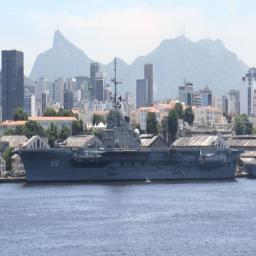Portanaves: (15, 47, 247, 193)
